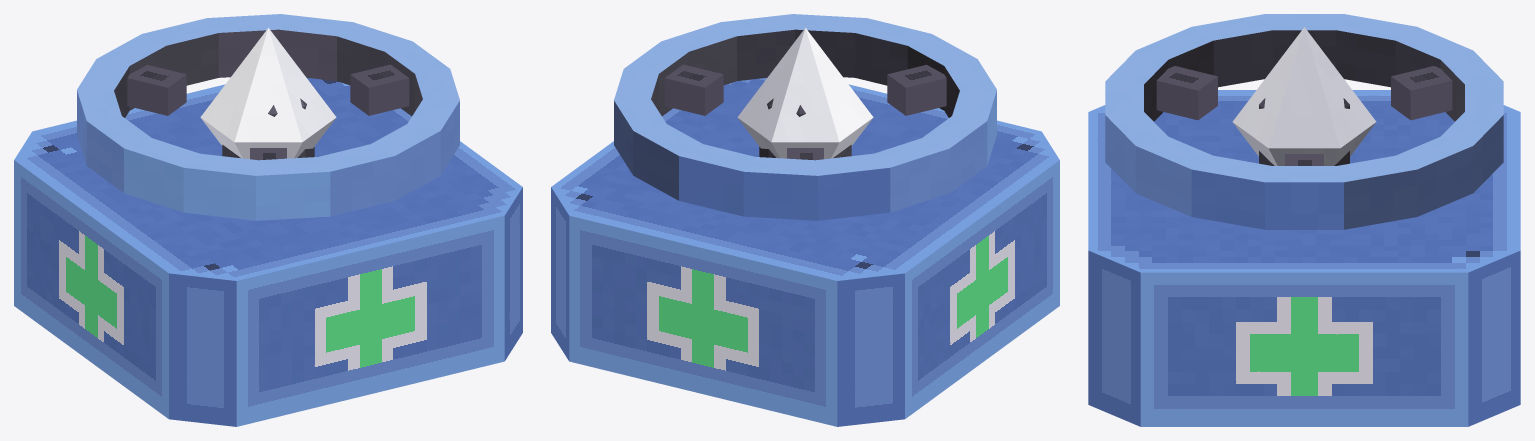
File: regen.glb
3 views of the same model, side by side, from view 1: azimuth 30°, elevation 25°; view 2: azimuth 150°, elevation 25°; view 3: azimuth 270°, elevation 25° (orthographic). The views are drawn at different scales.
Visible parts, largest first — view 1: regen_body, regen_ring, regen_crystal; view 2: regen_body, regen_ring, regen_crystal; view 3: regen_body, regen_ring, regen_crystal.
Part boxes in pixels (left/top/right/bottom): regen_body: left=14, top=78, right=522, bottom=426; regen_ring: left=77, top=14, right=459, bottom=220; regen_crystal: left=200, top=28, right=336, bottom=159; regen_body: left=551, top=78, right=1059, bottom=426; regen_ring: left=614, top=14, right=996, bottom=220; regen_crystal: left=737, top=28, right=873, bottom=159; regen_body: left=1088, top=90, right=1520, bottom=426; regen_ring: left=1105, top=14, right=1503, bottom=229; regen_crystal: left=1232, top=27, right=1376, bottom=165.
Size of the model in its own units: 0.66 by 0.52 by 0.66.
1 material, 1 textured.
